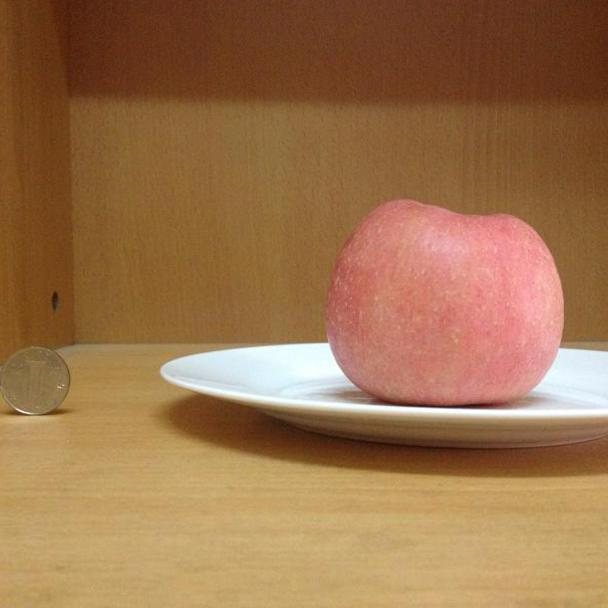apple: (322, 195, 572, 406)
